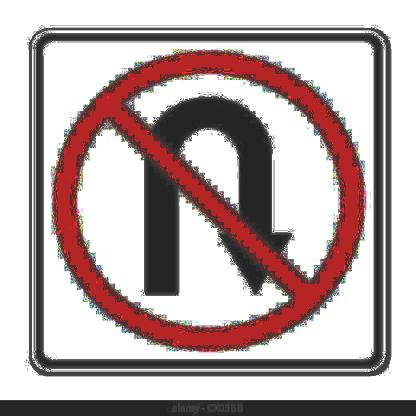No U-turn: (39, 39, 383, 369)
